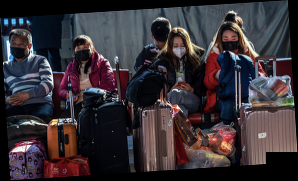with_mask: (9, 37, 29, 59), (74, 43, 92, 62), (221, 34, 240, 50), (172, 41, 187, 58)
